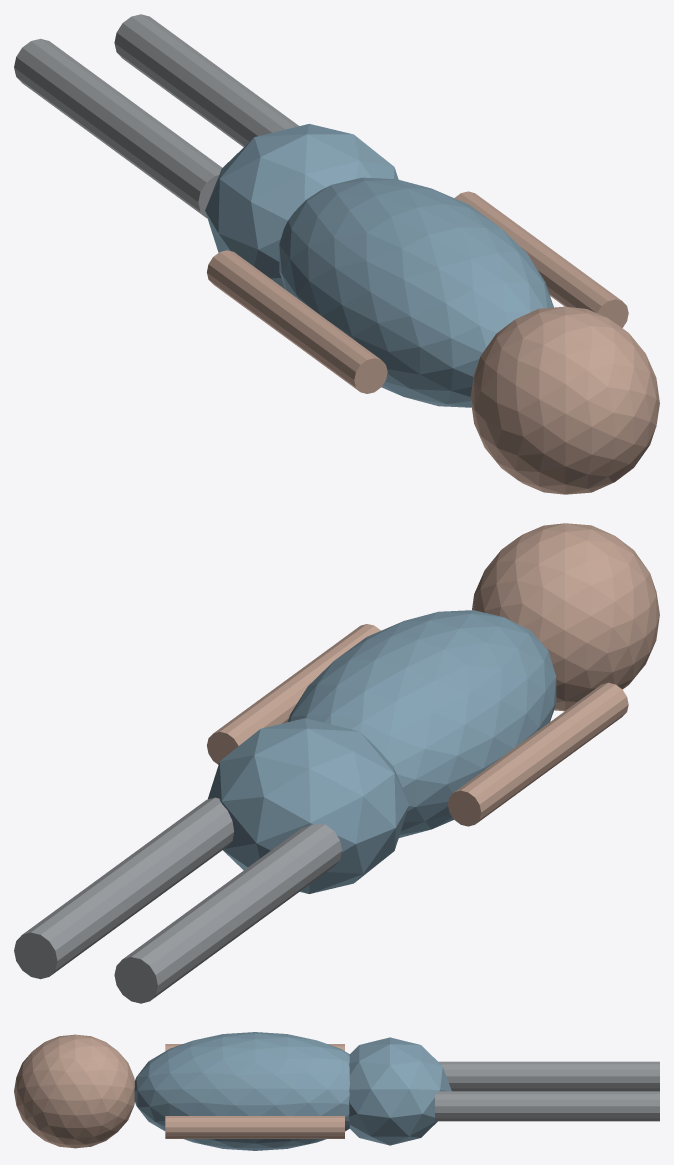
File: adult-medium.glb
The picture shows the model from 3 angles, top to bottom: view 1: azimuth 30°, elevation 25°; view 2: azimuth 150°, elevation 25°; view 3: azimuth 270°, elevation 25°; orthographic projection. The views are drawn at different scales.
Parts seen in each view (by area): view 1: torso, head, pelvis, left_leg, right_leg, left_arm, right_arm; view 2: torso, head, pelvis, left_leg, right_leg, left_arm, right_arm; view 3: torso, head, pelvis, right_leg, left_leg, right_arm.
Boxes of the visible parts, x1,y1,x2,y2 form: torso: [279, 177, 553, 407]; head: [470, 306, 659, 494]; pelvis: [205, 124, 398, 288]; left_leg: [14, 38, 222, 217]; right_leg: [114, 14, 298, 147]; left_arm: [207, 250, 387, 393]; right_arm: [454, 191, 628, 327]; torso: [287, 610, 556, 837]; head: [472, 523, 659, 711]; pelvis: [208, 718, 408, 893]; left_leg: [114, 823, 342, 1003]; right_leg: [14, 797, 234, 979]; left_arm: [448, 682, 628, 826]; right_arm: [207, 624, 380, 764]; torso: [134, 1032, 349, 1150]; head: [14, 1034, 134, 1148]; pelvis: [349, 1037, 451, 1145]; right_leg: [435, 1091, 659, 1121]; left_leg: [438, 1061, 659, 1091]; right_arm: [165, 1116, 344, 1138].
Size of the model in its own units: 1.07 by 0.6336 by 3.56.
